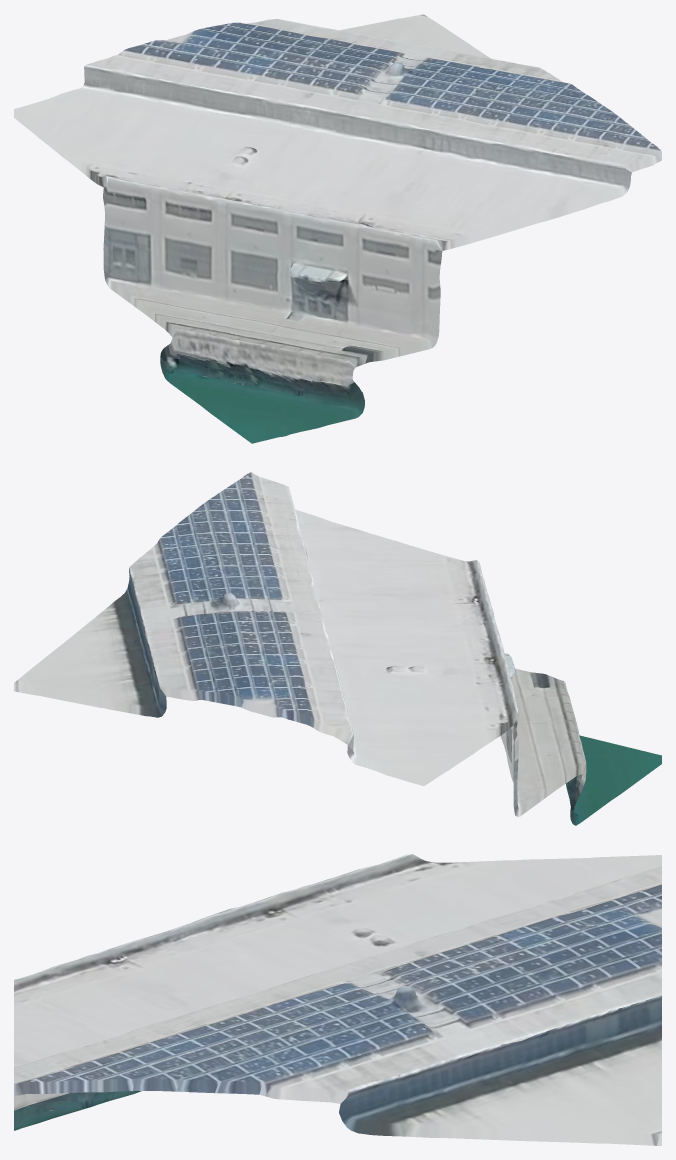
Rendered from z20-167788-405214-h0-yup-uvflip-v3-world.glb.
The picture shows the model from 3 angles, top to bottom: view 1: azimuth 30°, elevation 25°; view 2: azimuth 150°, elevation 25°; view 3: azimuth 270°, elevation 25°; orthographic projection. The views are drawn at different scales.
Bounding box in the file's own units: 30.16 × 14.44 × 30.32.
Materials: 1 (1 with a texture image).
